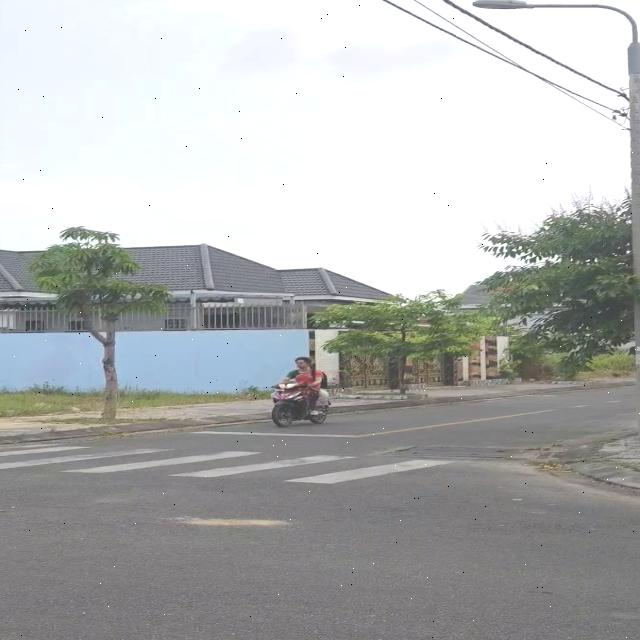no_helmet: (294, 353, 314, 370)
